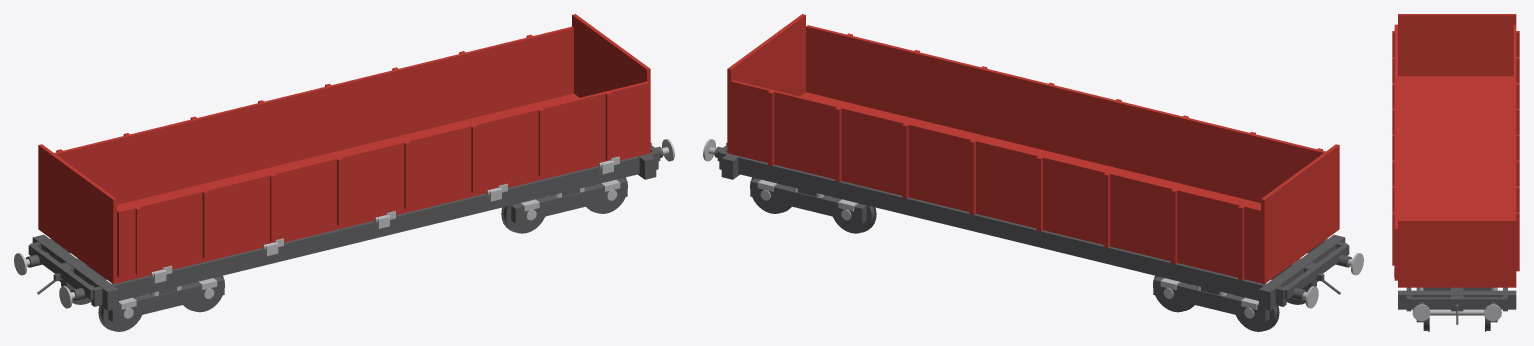
File: SM_SideTipWagon.fbx
3 renders of one model, left to right at view 1: azimuth 30°, elevation 25°; view 2: azimuth 150°, elevation 25°; view 3: azimuth 270°, elevation 25°, orthographic. The views are drawn at different scales.
Visible parts, largest first — view 1: ST_Body, ST_DropSide, ST_Underframe, ST_Bogie1_Frame, ST_Bogie2_Frame, ST_Bogie2_WS1, ST_Bogie1_WS1; view 2: ST_Body, ST_DropSide, ST_Underframe, ST_Bogie1_Frame, ST_Bogie2_Frame, ST_Bogie2_WS1, ST_Bogie1_WS1; view 3: ST_Body, ST_Underframe, ST_DropSide, ST_Bogie1_WS2, ST_Bogie1_Frame.
Boxes of the visible parts, left/top/right/bottom form: ST_Body: left=38, top=14, right=650, bottom=284; ST_DropSide: left=117, top=81, right=648, bottom=277; ST_Underframe: left=14, top=139, right=674, bottom=310; ST_Bogie1_Frame: left=511, top=178, right=627, bottom=223; ST_Bogie2_Frame: left=108, top=276, right=224, bottom=321; ST_Bogie2_WS1: left=61, top=258, right=141, bottom=331; ST_Bogie1_WS1: left=501, top=197, right=544, bottom=233; ST_Body: left=727, top=14, right=1339, bottom=284; ST_DropSide: left=806, top=25, right=1325, bottom=202; ST_Underframe: left=703, top=139, right=1363, bottom=310; ST_Bogie1_Frame: left=750, top=178, right=866, bottom=223; ST_Bogie2_Frame: left=1153, top=276, right=1269, bottom=321; ST_Bogie2_WS1: left=1236, top=258, right=1316, bottom=331; ST_Bogie1_WS1: left=833, top=197, right=876, bottom=233; ST_Body: left=1398, top=14, right=1519, bottom=287; ST_Underframe: left=1394, top=266, right=1516, bottom=324; ST_DropSide: left=1392, top=24, right=1397, bottom=280; ST_Bogie1_WS2: left=1423, top=309, right=1490, bottom=331; ST_Bogie1_Frame: left=1416, top=287, right=1497, bottom=322.
Bounding box in the file's own units: 1372 × 323 × 312.
